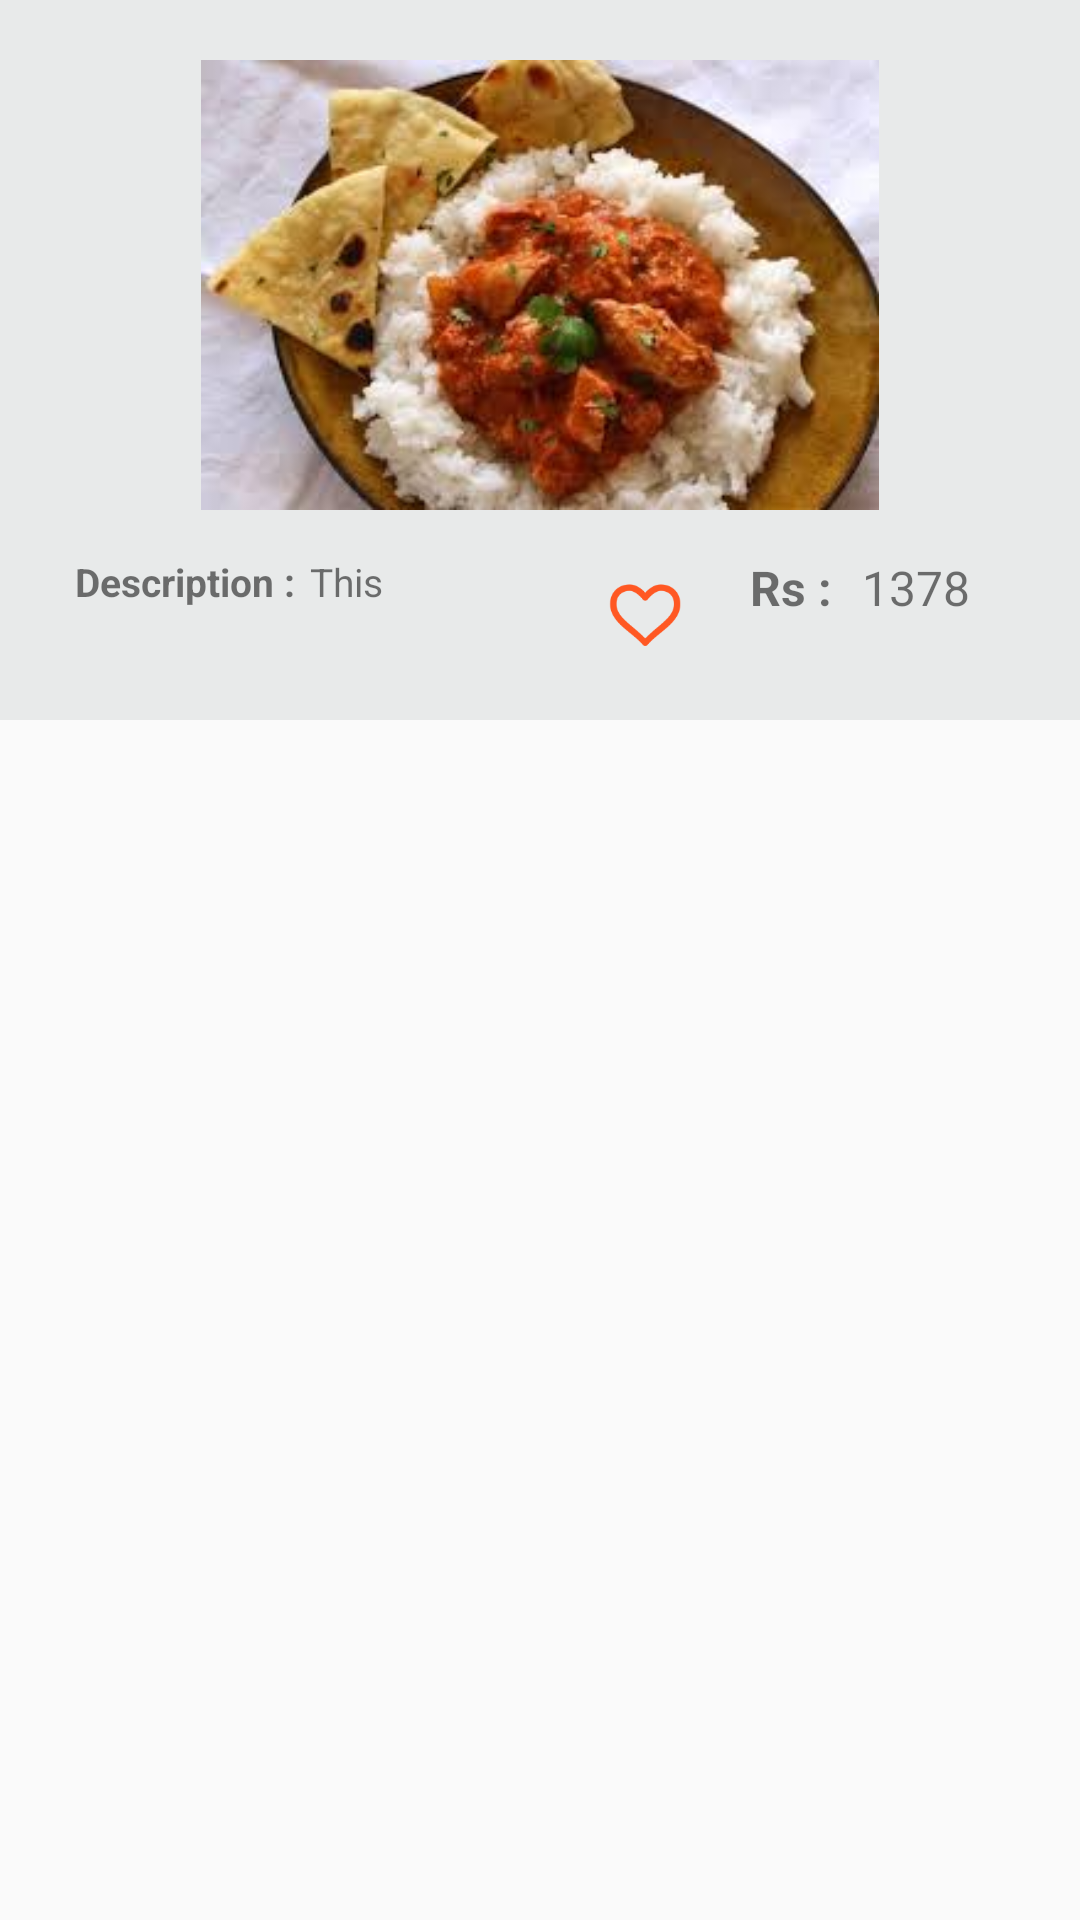

Icons on this 1080*1920 Android screen, each with its box as [x1, y1, x2, y2]:
unclickheart: [610, 584, 681, 646]
